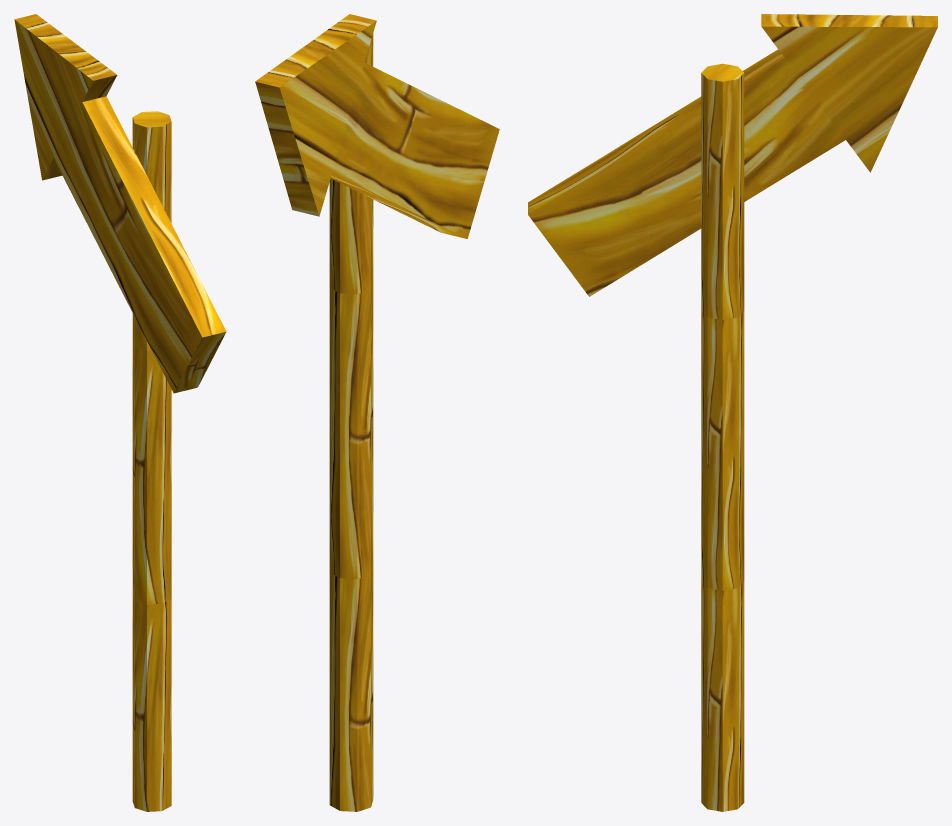
The model's file is SignSlanted.obj.
The picture shows the model from 3 angles, left to right: view 1: azimuth 30°, elevation 25°; view 2: azimuth 150°, elevation 25°; view 3: azimuth 270°, elevation 25°; orthographic projection. The views are drawn at different scales.
Parts seen in each view (by area): view 1: Plane.003, Cylinder.003; view 2: Plane.003, Cylinder.003; view 3: Plane.003, Cylinder.003.
Boxes of the visible parts, x1=… form: Plane.003: x1=14, y1=14, x2=226, y2=393; Cylinder.003: x1=132, y1=111, x2=171, y2=811; Plane.003: x1=255, y1=14, x2=499, y2=238; Cylinder.003: x1=329, y1=33, x2=373, y2=811; Plane.003: x1=528, y1=14, x2=937, y2=296; Cylinder.003: x1=701, y1=63, x2=744, y2=811.
Bounding box in the file's own units: 0.2682 × 3.16 × 1.53.
